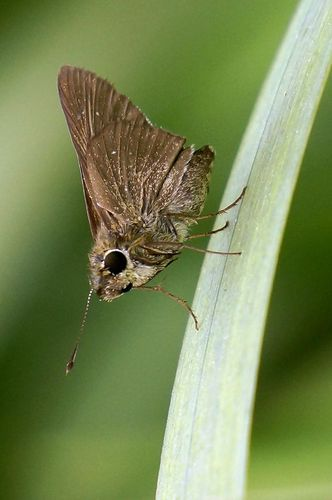Hesperiidae: (52, 59, 245, 385)
